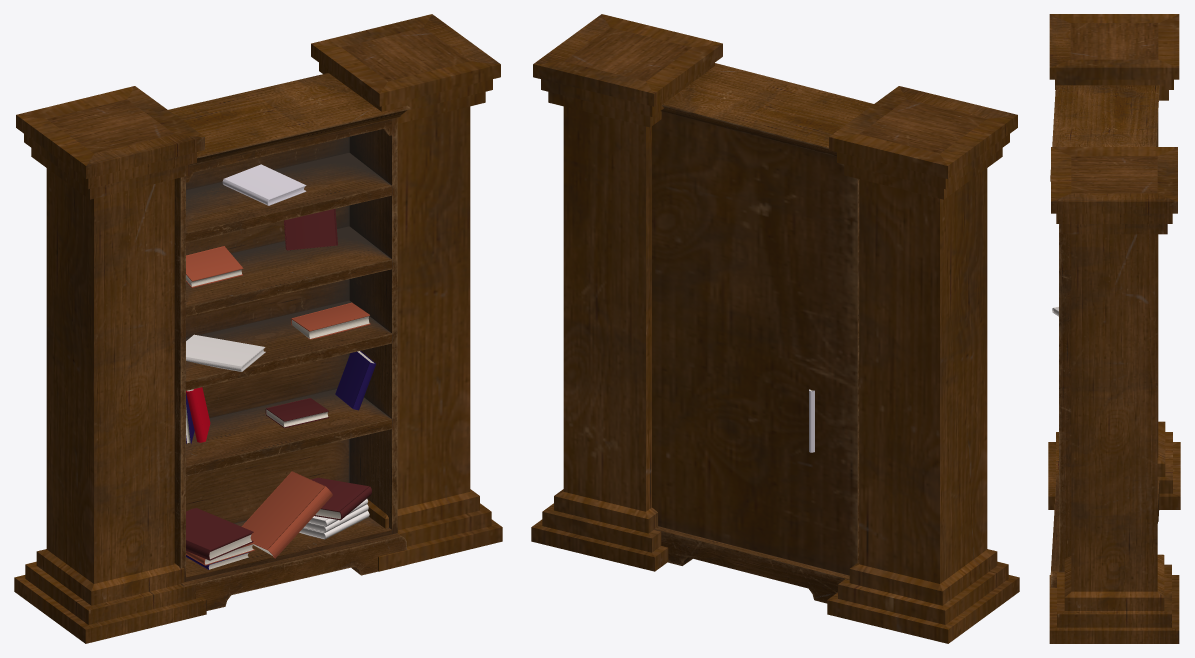
File: Librero.fbx
3 views of the same model, side by side, from view 1: azimuth 30°, elevation 25°; view 2: azimuth 150°, elevation 25°; view 3: azimuth 270°, elevation 25° (orthographic). The views are drawn at different scales.
Parts seen in each view (by area): view 1: Librero, PilarBiblioteca, PilarBiblioteca_02; view 2: Librero, PilarBiblioteca, PilarBiblioteca_02; view 3: PilarBiblioteca_02, PilarBiblioteca, Librero.
Part boxes in pixels (bbox=[...]): Librero: bbox=[168, 73, 410, 610]; PilarBiblioteca: bbox=[14, 86, 206, 643]; PilarBiblioteca_02: bbox=[311, 14, 502, 571]; Librero: bbox=[652, 63, 873, 603]; PilarBiblioteca: bbox=[827, 86, 1019, 643]; PilarBiblioteca_02: bbox=[531, 14, 722, 571]; PilarBiblioteca_02: bbox=[1049, 147, 1179, 643]; PilarBiblioteca: bbox=[1048, 14, 1180, 509]; Librero: bbox=[1050, 85, 1159, 587].
Size of the model in its own units: 771 by 847 by 228.
